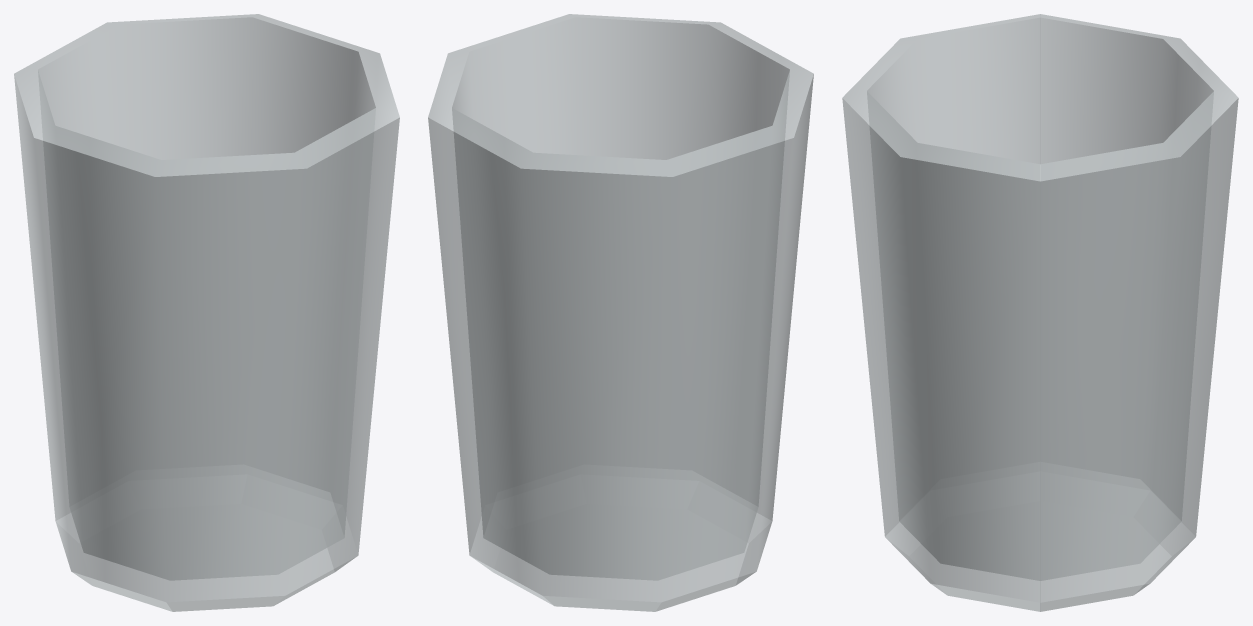
Rendered from glass.fbx.
The picture shows the model from 3 angles, left to right: view 1: azimuth 30°, elevation 25°; view 2: azimuth 150°, elevation 25°; view 3: azimuth 270°, elevation 25°; orthographic projection.
Visible parts, largest first — view 1: pCylinder89; view 2: pCylinder89; view 3: pCylinder89.
Boxes of the visible parts, <box> form: pCylinder89: <box>14,14,399,611</box>; pCylinder89: <box>428,14,813,611</box>; pCylinder89: <box>842,14,1238,611</box>.
Bounding box in the file's own units: 2.56 × 3.32 × 2.56.
1 material, 1 textured.
